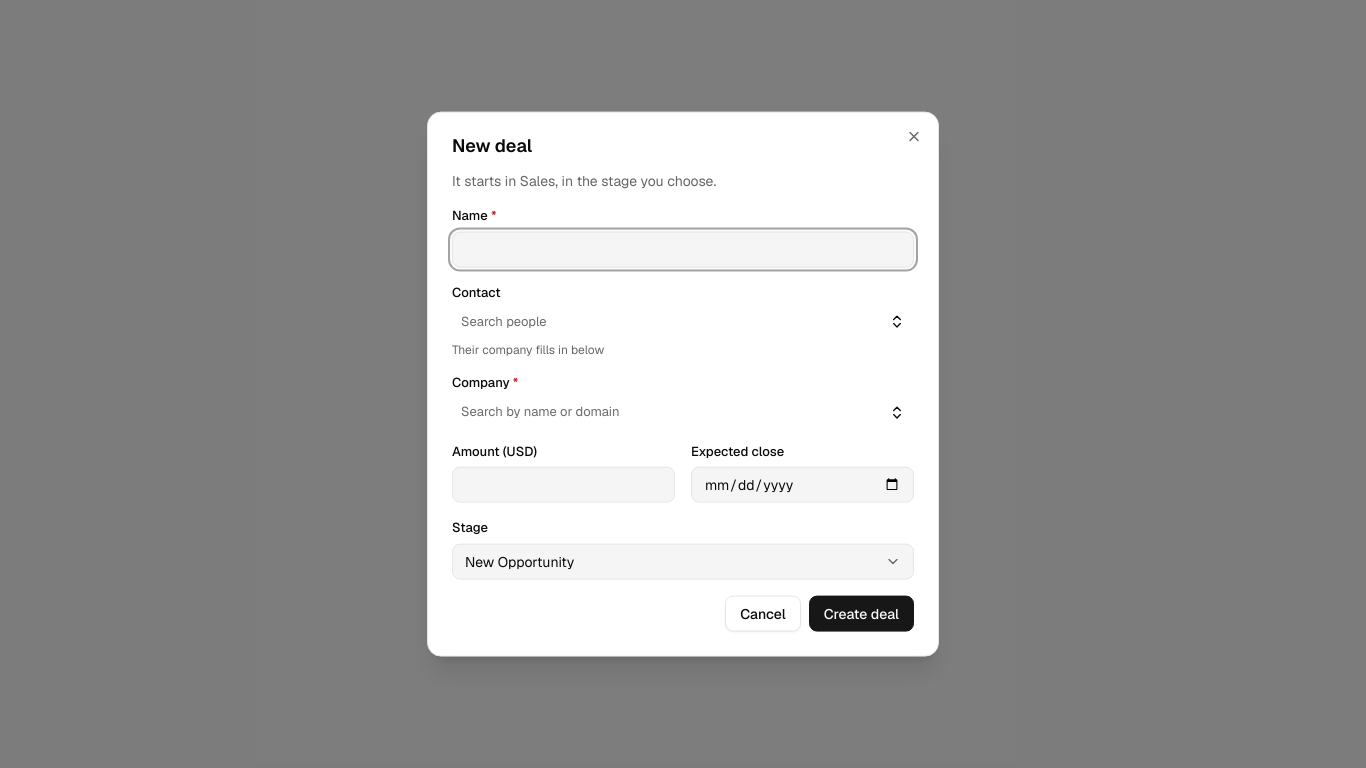
New deal: a contact, and their company › a deal still needs a company
Type "Orphan" into the field labelled "Name *".
click(683, 249); type("Orphan")  # box [452, 231, 914, 267]
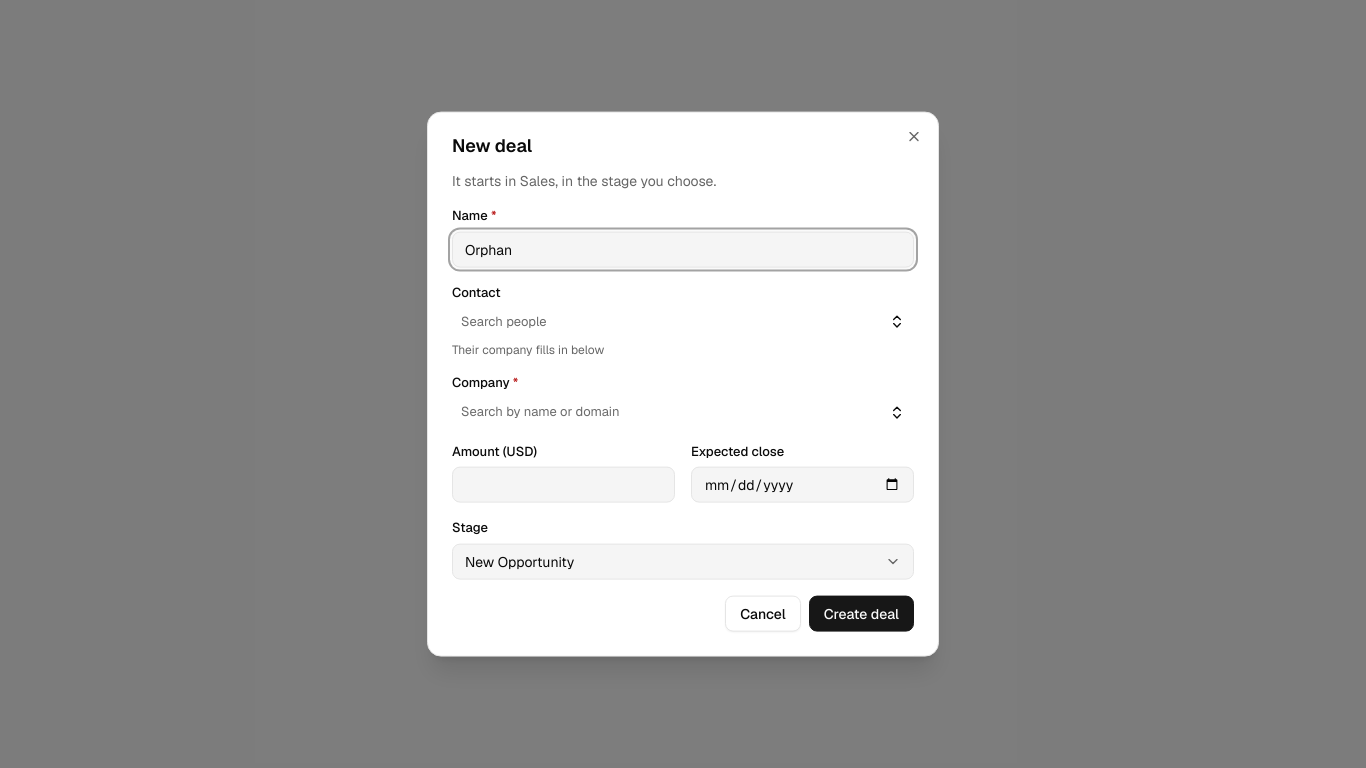
Click the button "Create deal".
click(861, 613)  # box [809, 595, 914, 631]
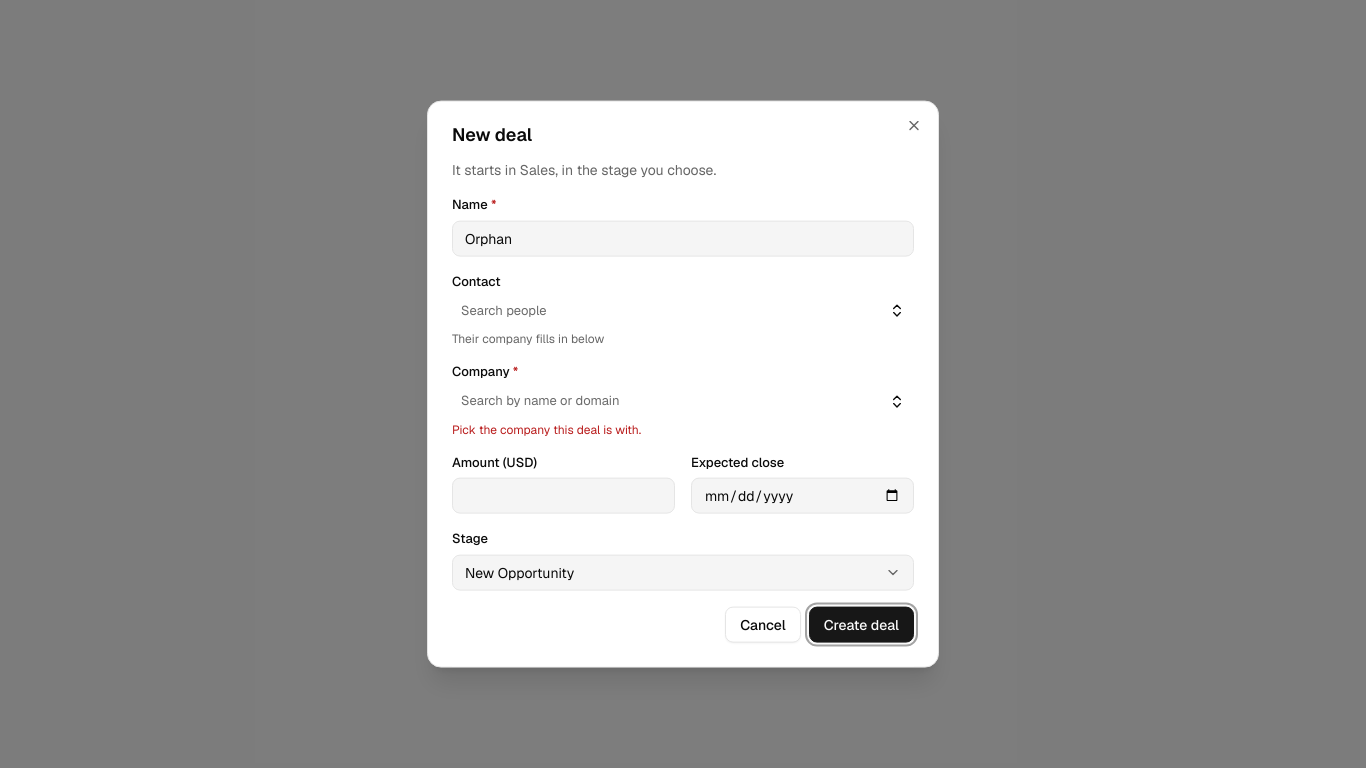
Expected: the text "Pick the company this deal is with." is shown, [452, 421, 641, 437]
